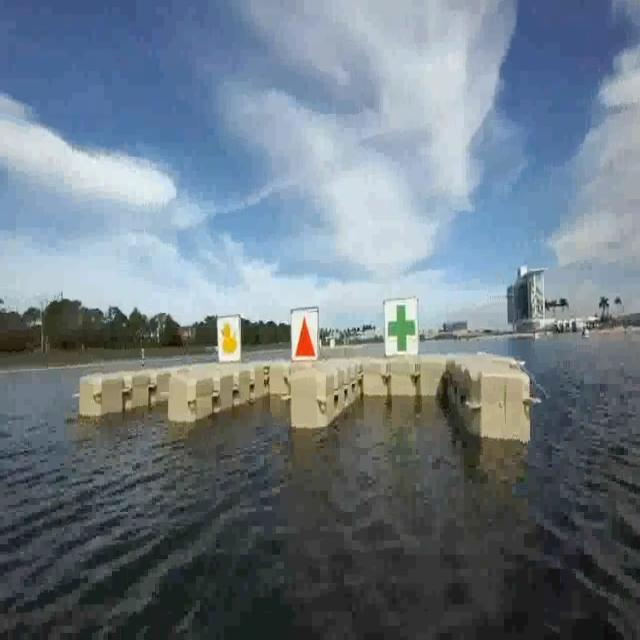blue-cross: (388, 303, 416, 358)
red-dot: (295, 312, 317, 357)
yellow-duck: (218, 320, 238, 354)
